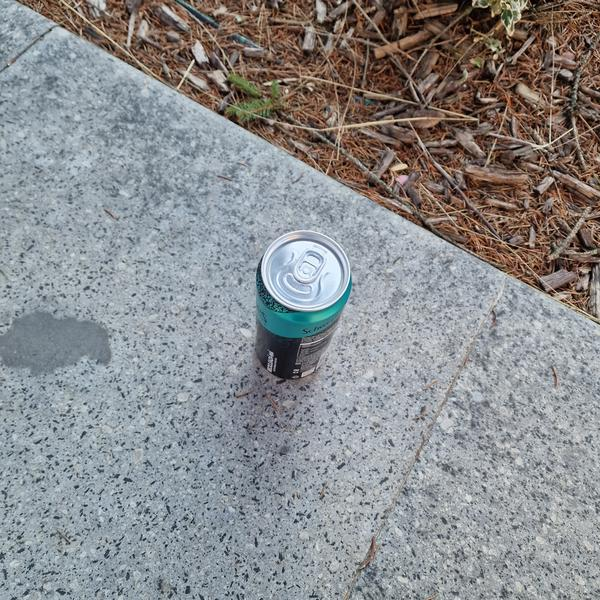can: (239, 221, 359, 386)
